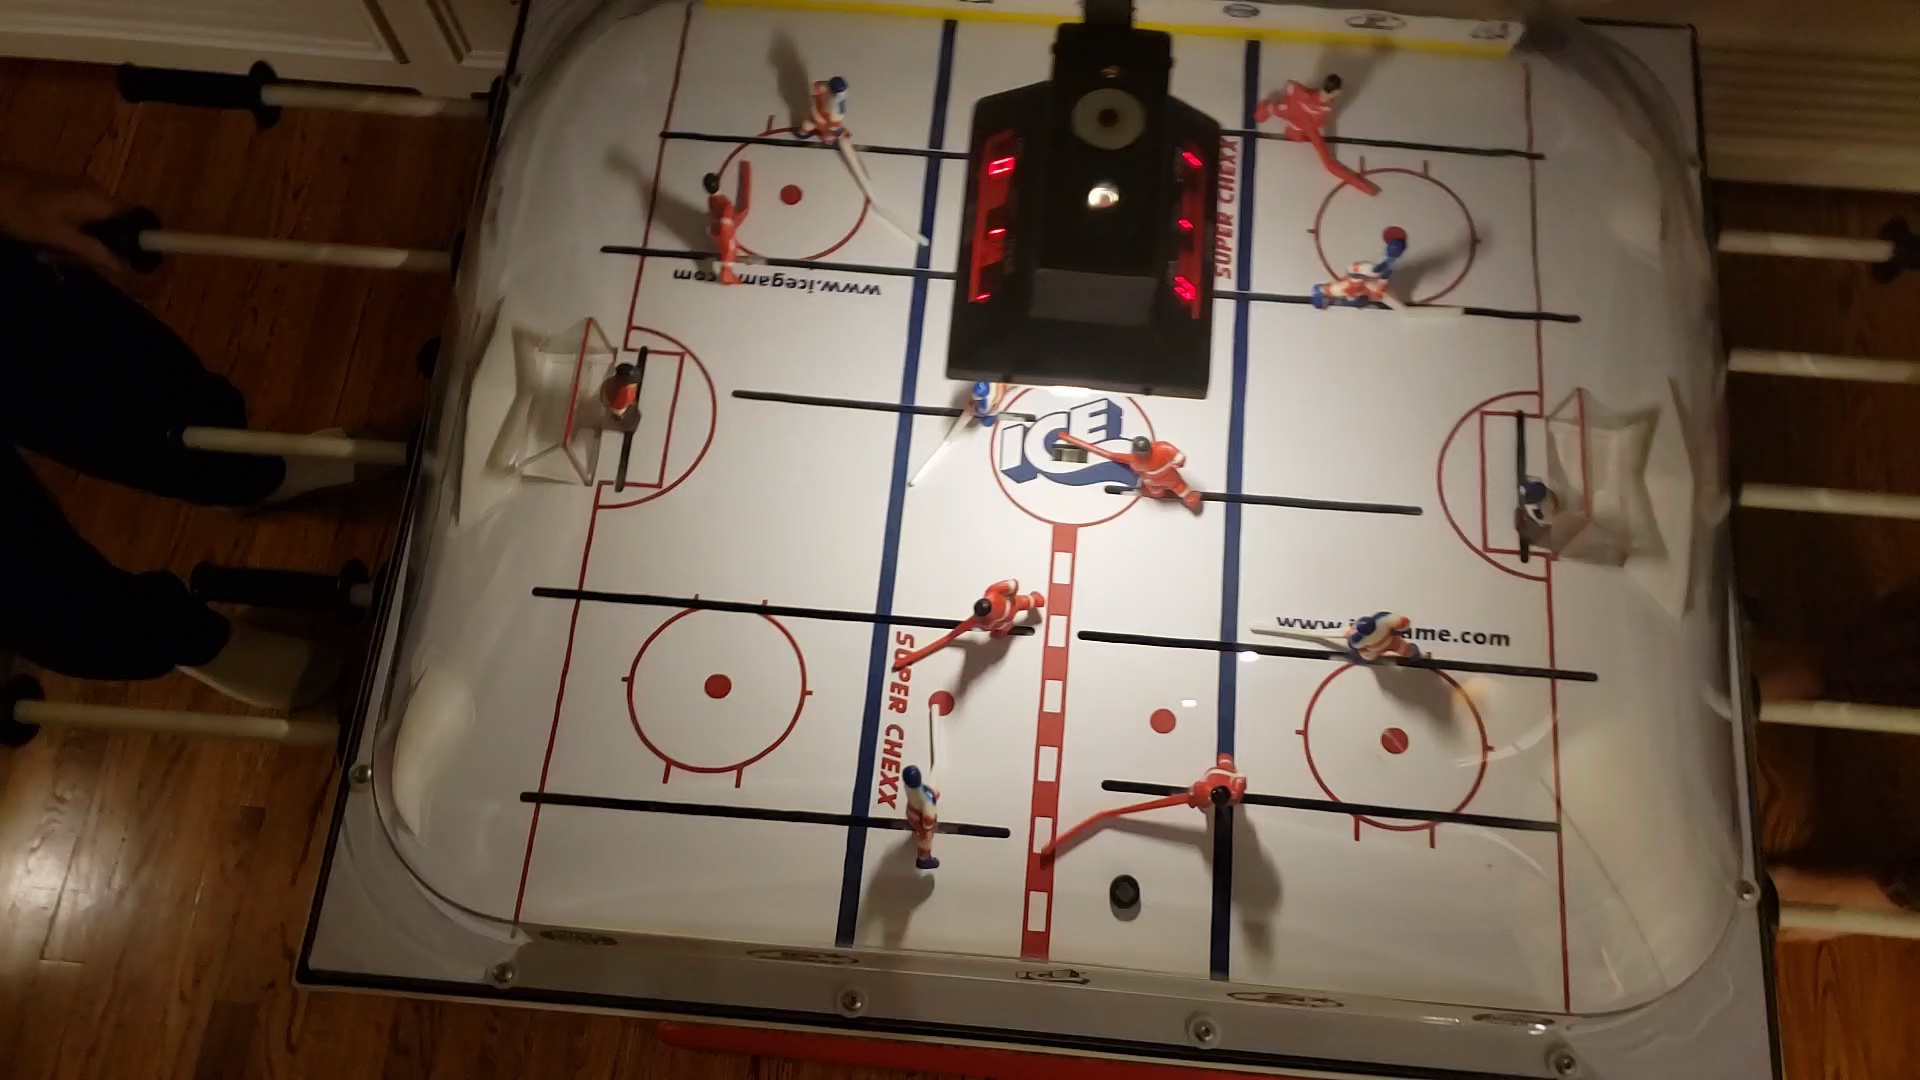puck: (1106, 873, 1145, 926)
